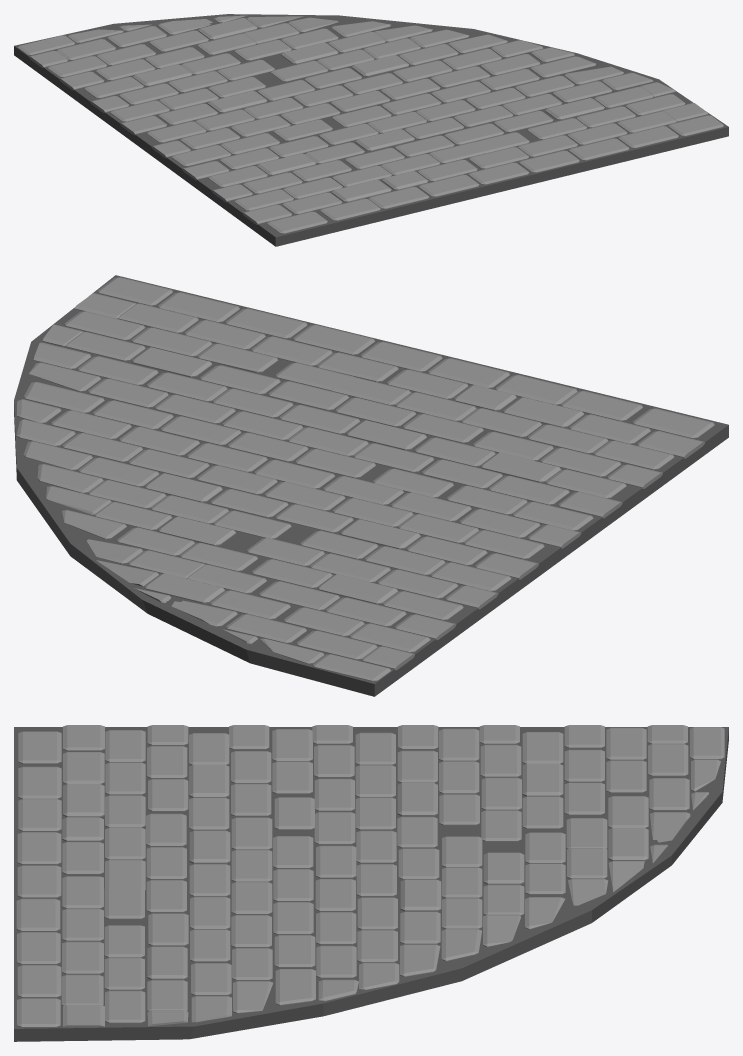
File: DungeonGroundRound.fbx
3 renders of one model, top to bottom at view 1: azimuth 30°, elevation 25°; view 2: azimuth 150°, elevation 25°; view 3: azimuth 270°, elevation 25°, orthographic. The views are drawn at different scales.
Parts seen in each view (by area): view 1: DungeonGroundRound; view 2: DungeonGroundRound; view 3: DungeonGroundRound.
Boxes of the visible parts, bbox=[...] form: DungeonGroundRound: bbox=[14, 14, 728, 246]; DungeonGroundRound: bbox=[14, 275, 728, 696]; DungeonGroundRound: bbox=[14, 725, 728, 1041].
Bounding box in the file's own units: 505 × 12.39 × 505.
Materials: 1 (1 with a texture image).
